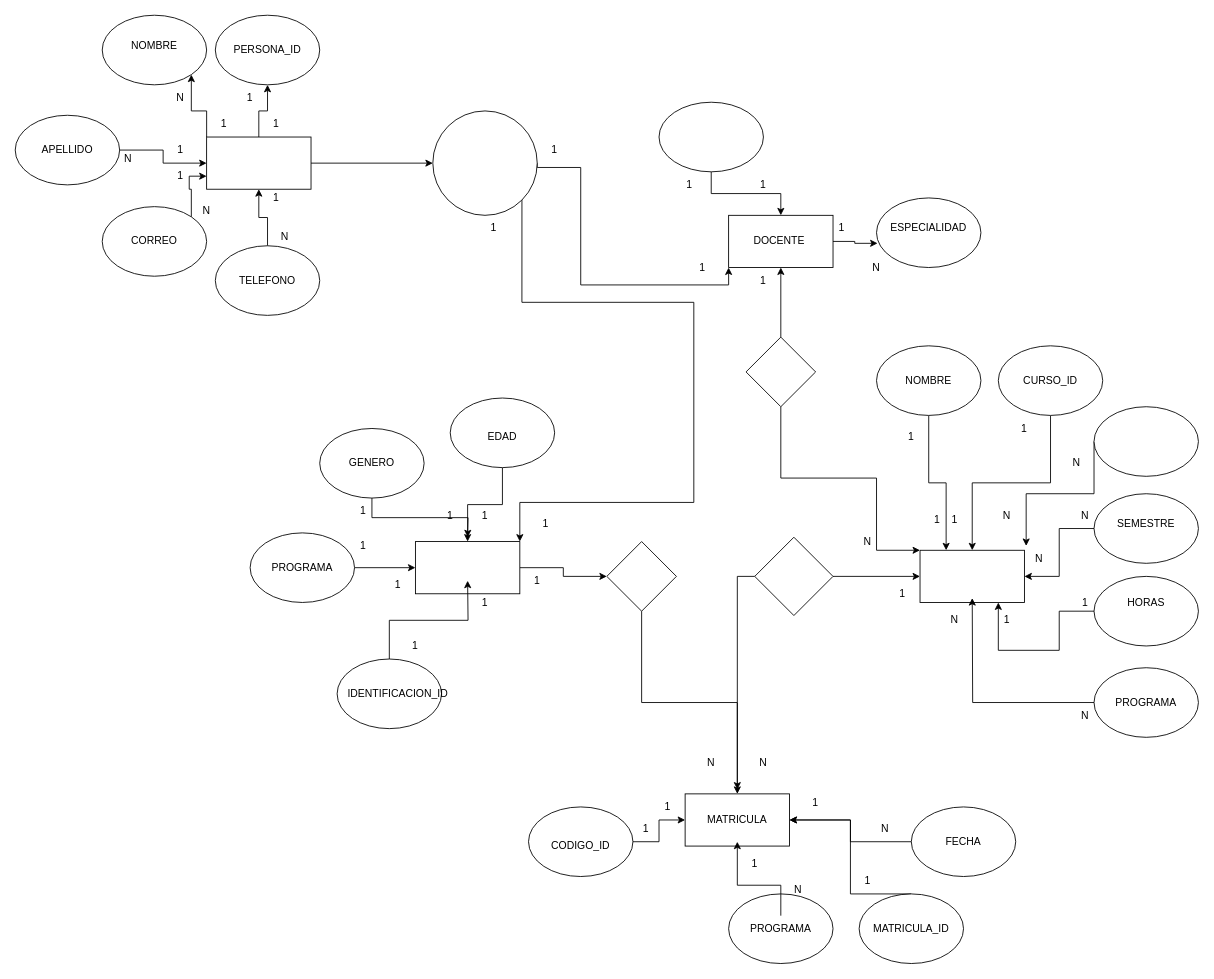
Image size: 1214x979. Some labels were removed from this diagram. Each missing label, with the centre of its shape:
"CREDITOS" belongs at (x=1145, y=441).
"CURSO" belongs at (x=971, y=575).
"DICTA" belongs at (x=780, y=371).
"DOCENTE_ID" belongs at (x=710, y=136).
"ESTUDIANTE" belongs at (x=467, y=567).
"GENERALIZACION" belongs at (x=484, y=162).
"PERSONA" belongs at (x=258, y=162).
"PERTENECE" belongs at (x=793, y=576).
"REALIZA" belongs at (x=641, y=576).
